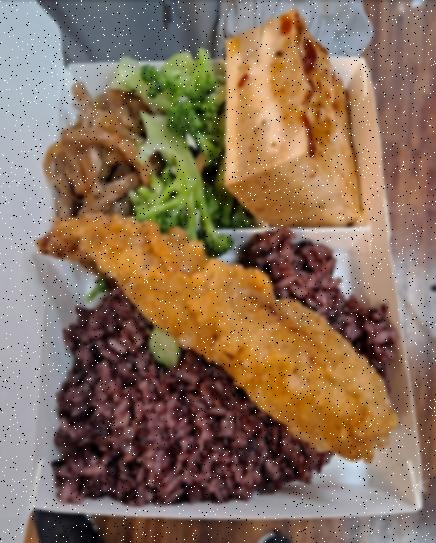box: (26, 39, 432, 533)
fried chicken rolls: (38, 214, 394, 463)
purple rice: (47, 221, 402, 500)
side dish: (222, 10, 362, 224), (126, 45, 234, 246), (42, 86, 146, 218)
